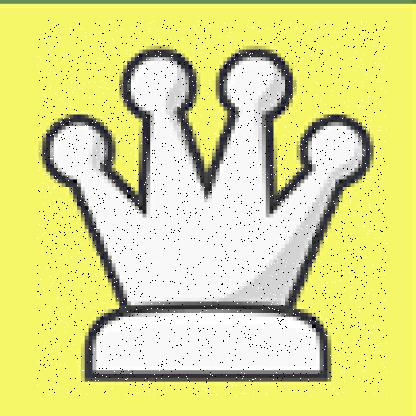White Queen: (37, 20, 388, 397)
